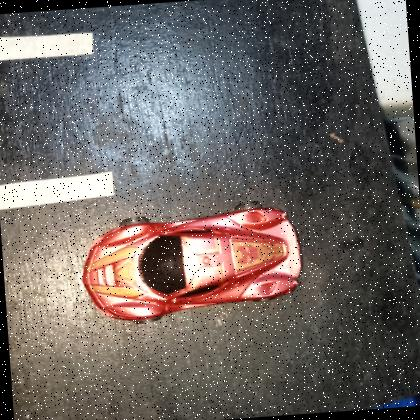Car: (76, 198, 307, 326)
